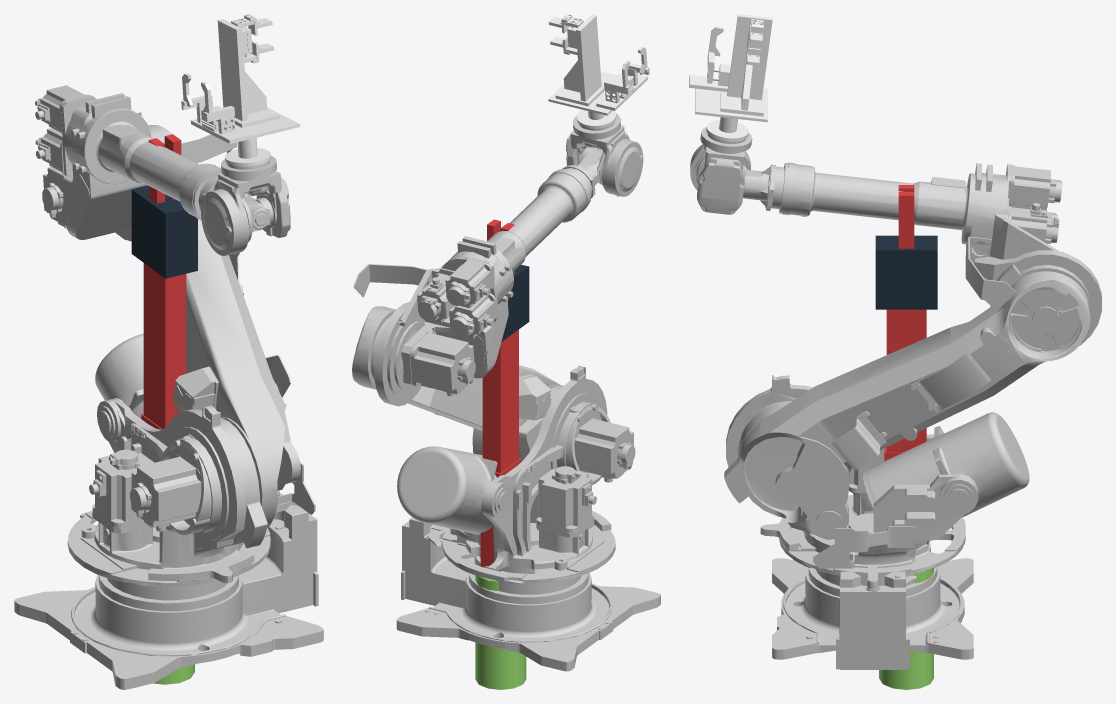
The picture shows the model from 3 angles, left to right: view 1: azimuth 30°, elevation 25°; view 2: azimuth 150°, elevation 25°; view 3: azimuth 270°, elevation 25°; orthographic projection. The views are drawn at different scales.
Visible parts, largest first — view 1: N_2082, N_2192, N_1358, N_1833, N_2580, elbow, N_1590, transferTool, N_2348; view 2: N_2082, N_1358, N_2192, N_2580, N_1833, elbow, N_1590, visualJoint, transferTool, N_2348, shoulder; view 3: N_1833, N_2082, N_1358, N_2192, N_2580, transferTool, N_1590, elbow, N_2348, visualJoint, gripperRight.
Part boxes in pixels (left/top/right/bottom): N_2082: left=67, top=333, right=315, bottom=586; N_2192: left=14, top=490, right=323, bottom=689; N_1358: left=35, top=85, right=236, bottom=241; N_1833: left=148, top=125, right=300, bottom=527; N_2580: left=181, top=14, right=300, bottom=166; elbow: left=143, top=263, right=186, bottom=428; N_1590: left=201, top=156, right=290, bottom=258; transferTool: left=131, top=185, right=197, bottom=278; N_2348: left=193, top=171, right=273, bottom=241; N_2082: left=397, top=365, right=635, bottom=584; N_1358: left=353, top=169, right=590, bottom=406; N_2192: left=396, top=517, right=660, bottom=671; N_2580: left=548, top=14, right=649, bottom=128; N_1833: left=352, top=306, right=560, bottom=461; elbow: left=482, top=329, right=518, bottom=472; N_1590: left=566, top=113, right=643, bottom=196; visualJoint: left=475, top=575, right=526, bottom=689; transferTool: left=501, top=264, right=529, bottom=341; N_2348: left=561, top=147, right=605, bottom=201; shoulder: left=480, top=458, right=520, bottom=571; N_1833: left=738, top=271, right=1090, bottom=539; N_2082: left=724, top=375, right=1029, bottom=578; N_1358: left=782, top=162, right=1101, bottom=345; N_2192: left=772, top=541, right=973, bottom=669; N_2580: left=689, top=14, right=772, bottom=141; transferTool: left=875, top=235, right=937, bottom=309; N_1590: left=690, top=126, right=752, bottom=214; elbow: left=886, top=309, right=926, bottom=452; N_2348: left=696, top=157, right=787, bottom=213; visualJoint: left=879, top=568, right=933, bottom=689; gripperRight: left=898, top=192, right=914, bottom=248.
Size of the model in its own units: 1.34 by 3.96 by 2.26.
